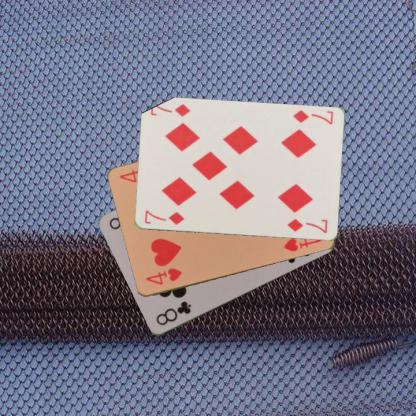4h: (143, 265, 183, 287)
7d: (290, 107, 334, 126), (142, 208, 186, 226)
8c: (153, 298, 193, 328)
